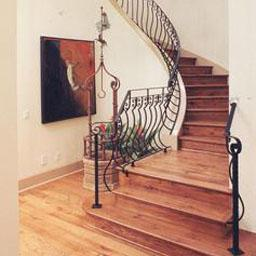Escaleras: (86, 66, 231, 249)
